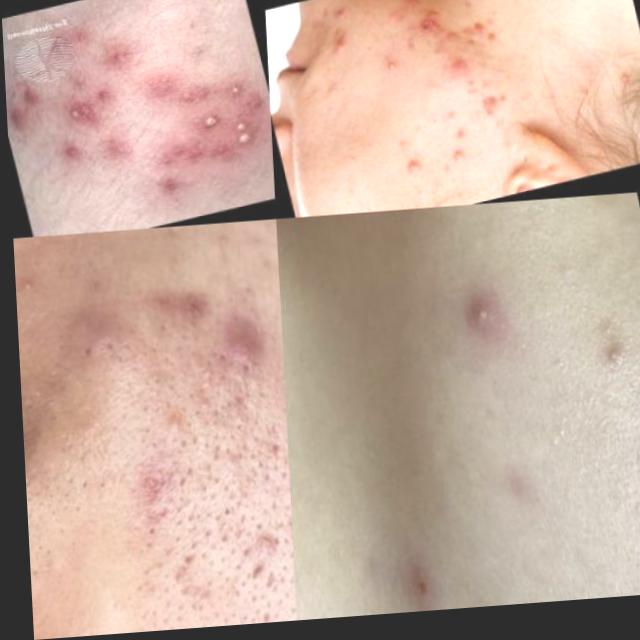8: (140, 270, 225, 357), (50, 278, 129, 361), (204, 298, 276, 381), (3, 77, 55, 149), (151, 163, 196, 214), (157, 396, 194, 449), (87, 132, 129, 174), (108, 39, 143, 73), (175, 87, 213, 108)
9: (391, 140, 435, 197), (457, 290, 499, 342), (588, 341, 633, 379), (442, 144, 483, 179), (374, 50, 407, 87), (62, 101, 85, 127), (602, 359, 616, 370)
blackheads: (112, 447, 187, 515), (399, 6, 455, 59), (476, 87, 521, 135), (10, 254, 37, 306)
whiteheads: (594, 70, 638, 110), (197, 108, 225, 138), (221, 80, 246, 106), (235, 133, 256, 154), (231, 122, 251, 140)
